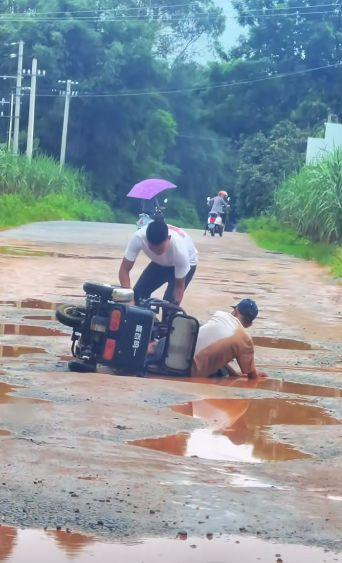bending: (111, 210, 204, 339)
down: (163, 298, 269, 384)
